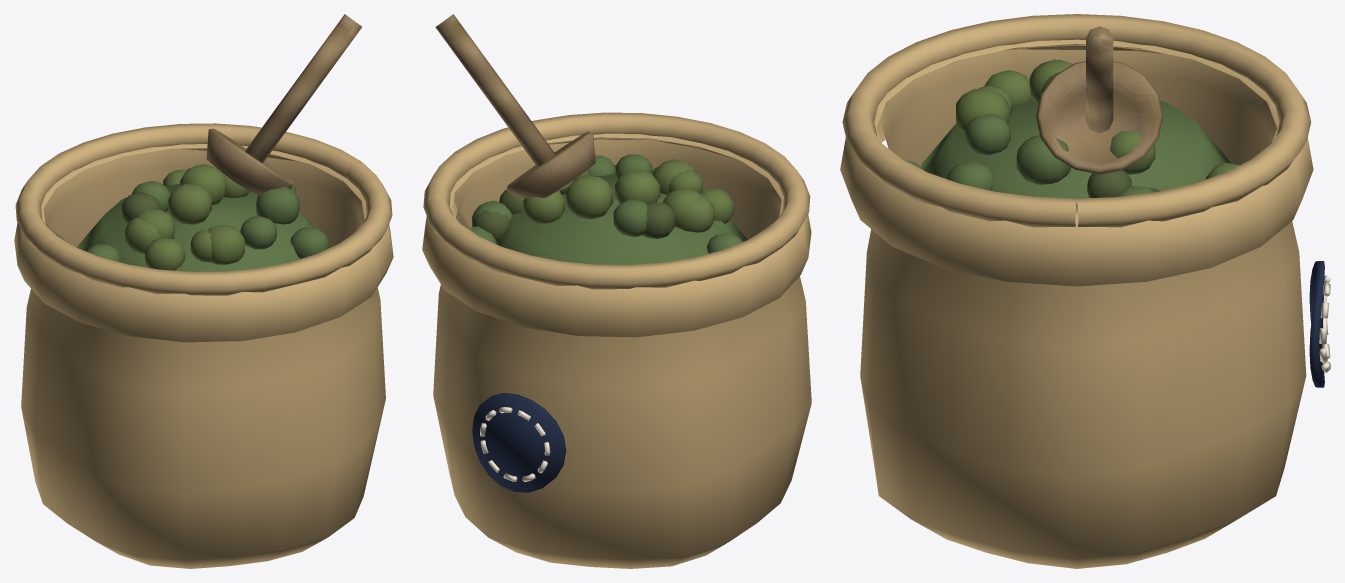
Rendered from pellet_sack_green.glb.
3 renders of one model, left to right at view 1: azimuth 30°, elevation 25°; view 2: azimuth 150°, elevation 25°; view 3: azimuth 270°, elevation 25°, orthographic. The views are drawn at different scales.
Visible parts, largest first — view 1: pellet_sack_green_hemp, pellet_sack_green_felt_green, pellet_sack_green_felt_tea, pellet_sack_green_wood_light, pellet_sack_green_felt_moss; view 2: pellet_sack_green_hemp, pellet_sack_green_felt_green, pellet_sack_green_felt_tea, pellet_sack_green_wood_light, pellet_sack_green_felt_indigo, pellet_sack_green_felt_moss, pellet_sack_green_thread; view 3: pellet_sack_green_hemp, pellet_sack_green_felt_green, pellet_sack_green_wood_light, pellet_sack_green_felt_tea, pellet_sack_green_felt_indigo, pellet_sack_green_felt_moss, pellet_sack_green_thread.
Part boxes in pixels (x1,y1,x2,y2): pellet_sack_green_hemp: (14, 123, 393, 568); pellet_sack_green_felt_green: (76, 177, 329, 271); pellet_sack_green_felt_tea: (125, 164, 249, 270); pellet_sack_green_wood_light: (206, 14, 361, 195); pellet_sack_green_felt_moss: (121, 187, 291, 223); pellet_sack_green_hemp: (422, 112, 811, 568); pellet_sack_green_felt_green: (470, 154, 747, 264); pellet_sack_green_felt_tea: (523, 159, 733, 232); pellet_sack_green_wood_light: (435, 14, 595, 199); pellet_sack_green_felt_indigo: (472, 393, 566, 492); pellet_sack_green_felt_moss: (473, 164, 675, 241); pellet_sack_green_thread: (480, 407, 550, 481); pellet_sack_green_hemp: (840, 14, 1313, 568); pellet_sack_green_felt_green: (920, 99, 1231, 198); pellet_sack_green_wood_light: (1036, 26, 1163, 174); pellet_sack_green_felt_tea: (904, 59, 1239, 179); pellet_sack_green_felt_indigo: (1309, 261, 1324, 387); pellet_sack_green_felt_moss: (1087, 170, 1160, 197); pellet_sack_green_thread: (1319, 275, 1330, 372).
Bounding box in the file's own units: 0.4186 × 0.5482 × 0.4312.
Materials: 7 (5 with a texture image).
